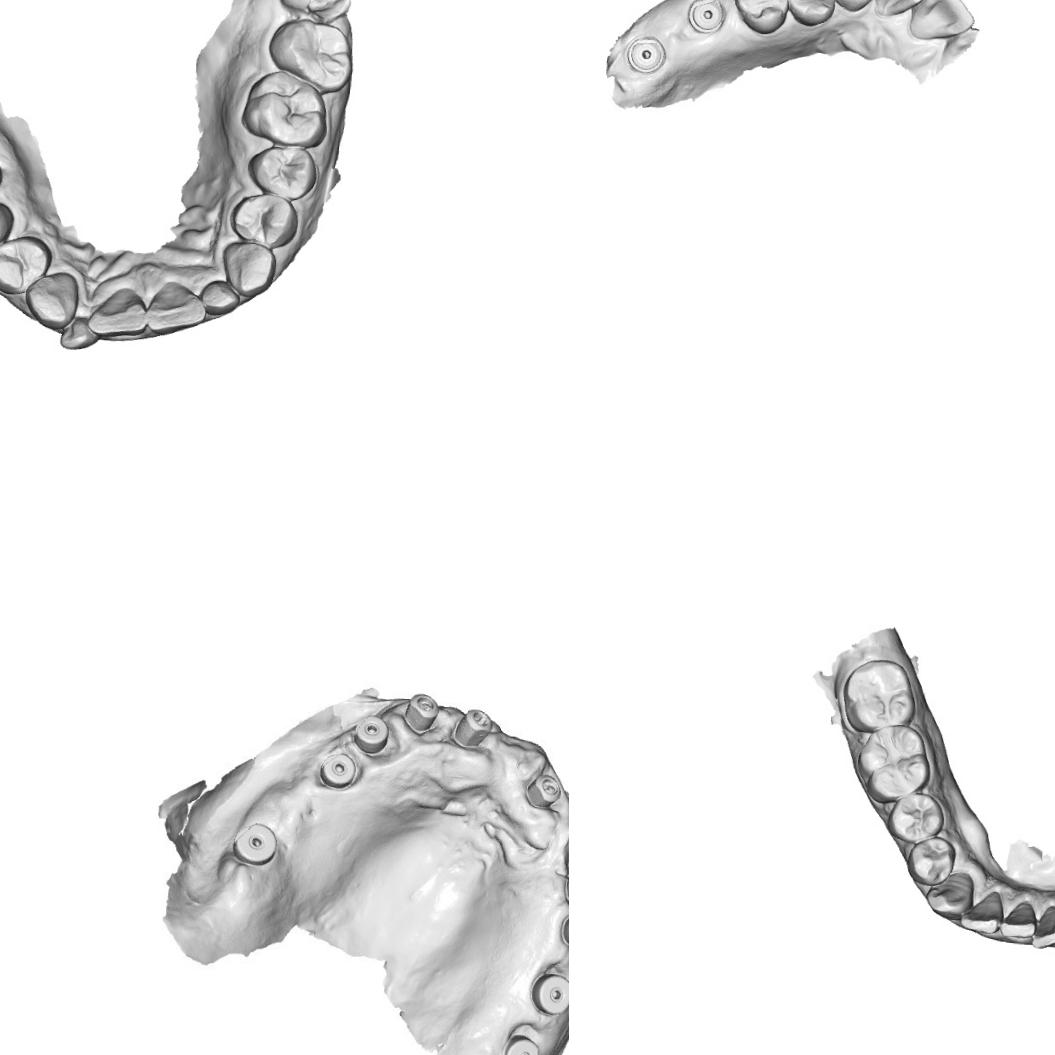canine: (22, 266, 81, 333), (916, 864, 978, 924), (219, 237, 276, 297), (830, 0, 882, 13)
implant: (528, 967, 569, 1022), (232, 820, 279, 865), (350, 711, 390, 753), (623, 34, 666, 73), (401, 691, 440, 734), (318, 752, 358, 793), (525, 770, 563, 812), (457, 706, 495, 746), (684, 0, 725, 35), (503, 1030, 543, 1055)
incisor: (144, 278, 210, 332), (88, 286, 152, 337), (907, 0, 976, 42), (957, 887, 1006, 938), (995, 897, 1038, 946), (197, 274, 241, 315), (57, 312, 100, 352), (1028, 895, 1055, 952), (872, 0, 927, 19)
molar: (261, 12, 358, 96), (237, 66, 329, 150), (853, 720, 934, 806), (838, 653, 920, 736)
premolar: (226, 188, 303, 252), (246, 140, 322, 204), (884, 788, 948, 846), (0, 231, 52, 297), (902, 832, 957, 888), (730, 0, 791, 35), (782, 0, 838, 27)
